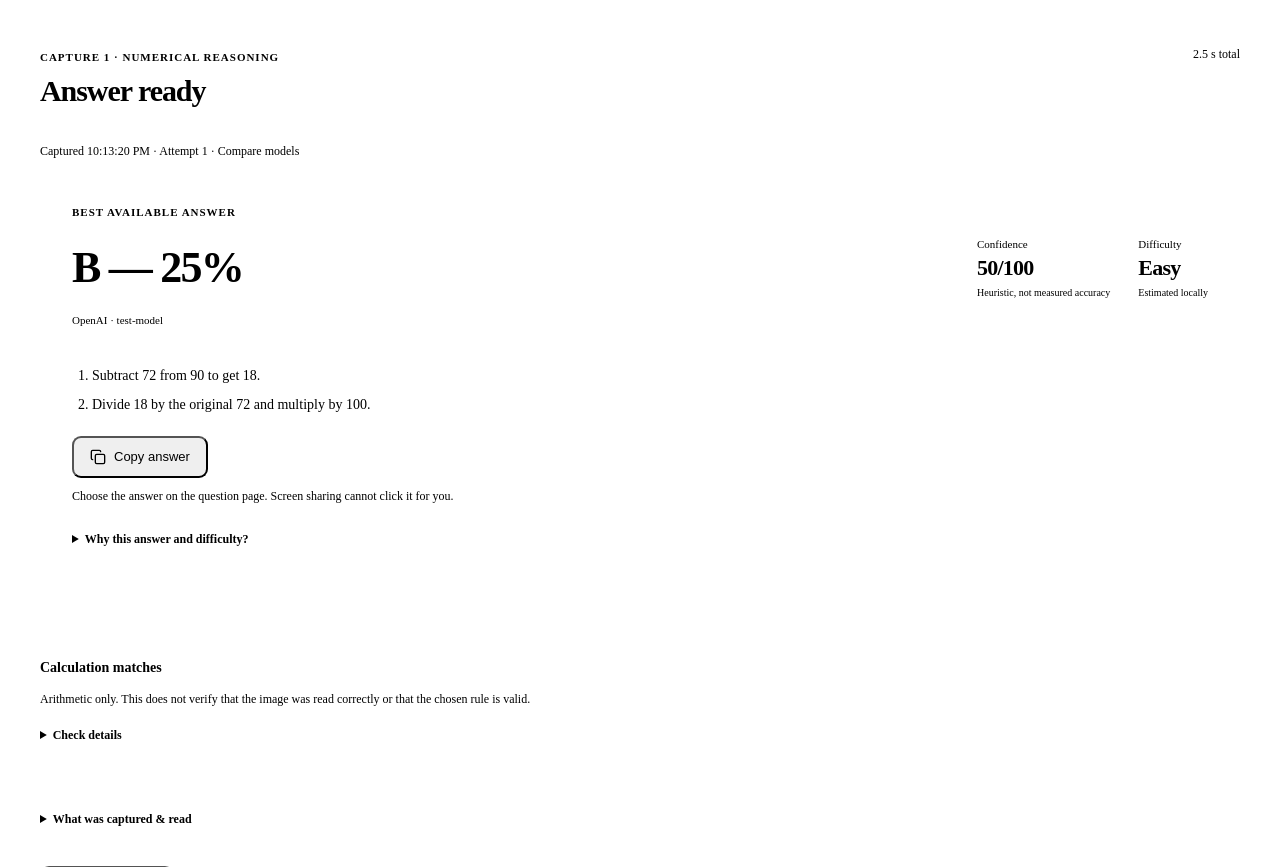
model comparison results › provides a selected manual-copy field if the browser denies clipboard access
Step 1. Click the button "Copy answer" → point(140, 457), box [72, 436, 208, 478]
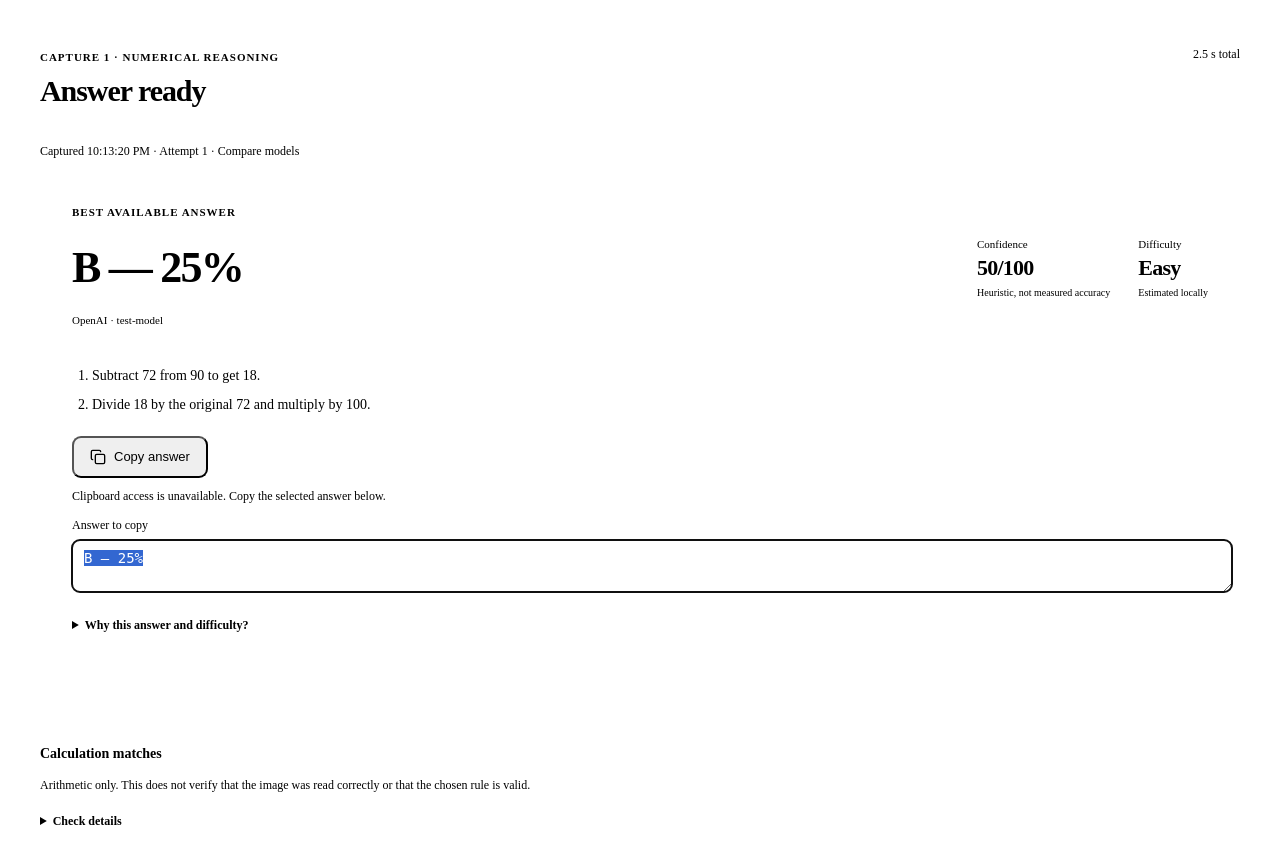
Expected: the text box labelled "Answer to copy" holds "B — 25%", [72, 540, 1232, 592]
Expected: the message shows "Clipboard access is unavailable", [72, 489, 386, 503]
